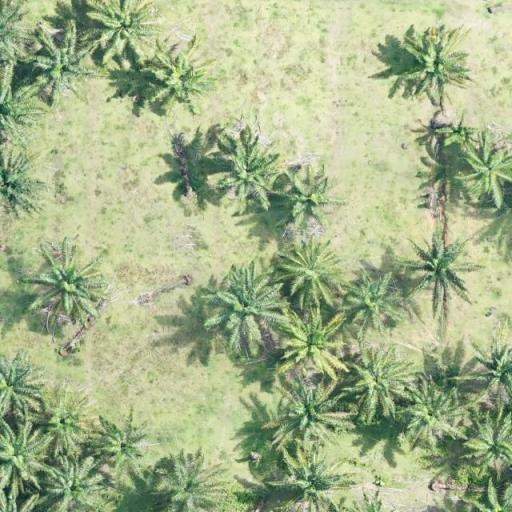Ganoderma: (285, 320, 341, 374), (35, 261, 96, 310), (407, 39, 462, 87), (416, 244, 467, 292), (44, 398, 95, 443), (351, 278, 395, 320)
